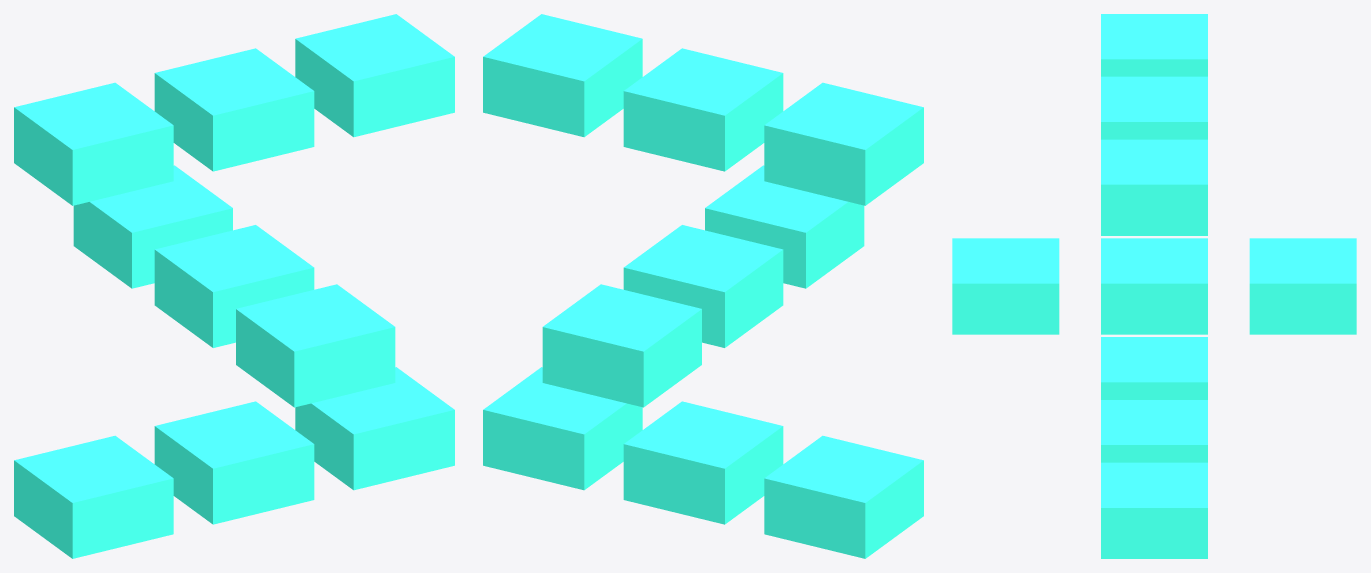
File: nexah-life-orbit-blinker-p1.glb
The picture shows the model from 3 angles, left to right: view 1: azimuth 30°, elevation 25°; view 2: azimuth 150°, elevation 25°; view 3: azimuth 270°, elevation 25°; orthographic projection. The views are drawn at different scales.
Parts seen in each view (by area): view 1: cell_t000_x06_y07, cell_t002_x06_y07, cell_t001_x07_y08, cell_t000_x07_y07, cell_t002_x07_y07, cell_t002_x08_y07, cell_t000_x08_y07, cell_t001_x07_y07, cell_t001_x07_y06; view 2: cell_t000_x06_y07, cell_t002_x06_y07, cell_t001_x07_y06, cell_t000_x07_y07, cell_t002_x07_y07, cell_t002_x08_y07, cell_t000_x08_y07, cell_t001_x07_y07, cell_t001_x07_y08; view 3: cell_t001_x07_y06, cell_t001_x07_y08, cell_t000_x08_y07, cell_t001_x07_y07, cell_t002_x08_y07, cell_t002_x07_y07, cell_t000_x06_y07, cell_t000_x07_y07, cell_t002_x06_y07.
Boxes of the visible parts, <box> form: cell_t000_x06_y07: <box>14,435,173,558</box>; cell_t002_x06_y07: <box>14,82,173,205</box>; cell_t001_x07_y08: <box>236,284,395,407</box>; cell_t000_x07_y07: <box>154,401,314,524</box>; cell_t002_x07_y07: <box>154,48,314,171</box>; cell_t002_x08_y07: <box>295,14,454,137</box>; cell_t000_x08_y07: <box>295,367,454,490</box>; cell_t001_x07_y07: <box>154,225,314,347</box>; cell_t001_x07_y06: <box>73,165,232,288</box>; cell_t000_x06_y07: <box>764,435,923,558</box>; cell_t002_x06_y07: <box>764,82,923,205</box>; cell_t001_x07_y06: <box>542,284,701,407</box>; cell_t000_x07_y07: <box>623,401,783,524</box>; cell_t002_x07_y07: <box>623,48,783,171</box>; cell_t002_x08_y07: <box>483,14,642,137</box>; cell_t000_x08_y07: <box>483,367,642,490</box>; cell_t001_x07_y07: <box>623,225,783,347</box>; cell_t001_x07_y08: <box>705,165,864,288</box>; cell_t001_x07_y06: <box>1249,238,1356,334</box>; cell_t001_x07_y08: <box>952,238,1059,334</box>; cell_t000_x08_y07: <box>1101,462,1207,558</box>; cell_t001_x07_y07: <box>1101,238,1207,334</box>; cell_t002_x08_y07: <box>1101,139,1207,235</box>; cell_t002_x07_y07: <box>1101,76,1207,139</box>; cell_t000_x06_y07: <box>1101,337,1207,399</box>; cell_t000_x07_y07: <box>1101,400,1207,462</box>; cell_t002_x06_y07: <box>1101,14,1207,76</box>.
Size of the model in its own units: 2.72 by 2.78 by 2.72.
